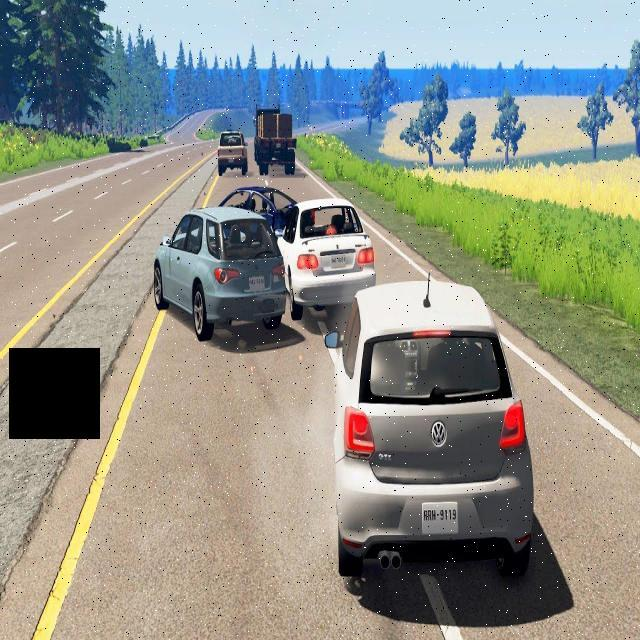moderate: (148, 174, 382, 344)
